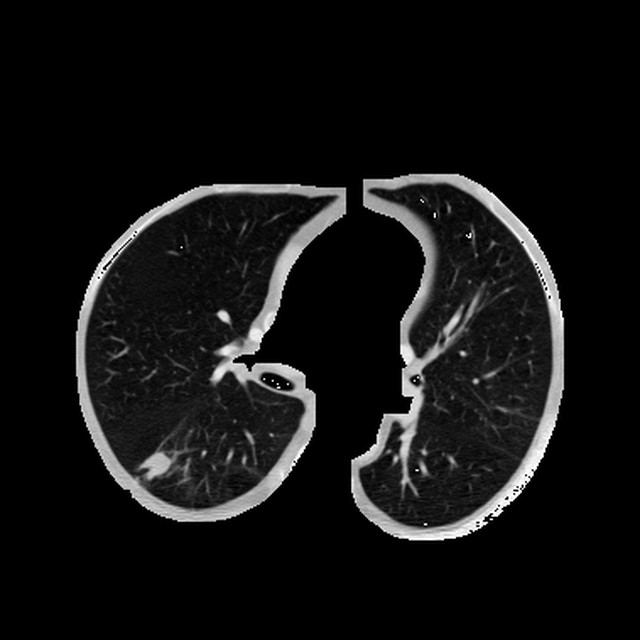PN: (144, 453, 167, 476)
